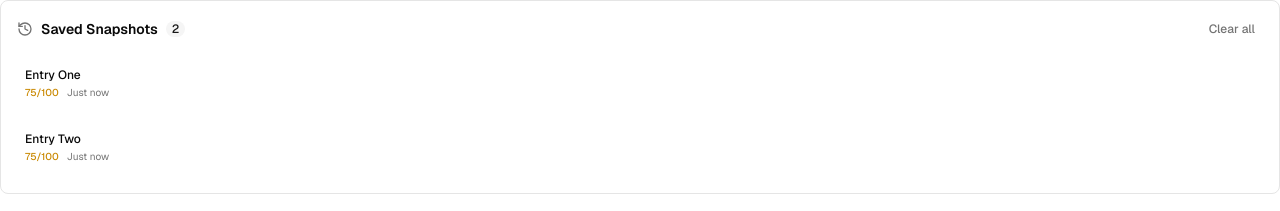
it: HistoryPanel › clears all history when 'Clear all' is clicked
Check: the text "Entry One" is shown, box [25, 66, 81, 82]
Click the button with aria-label "Clear all saved snapshots": (1232, 29) [1201, 17, 1263, 41]
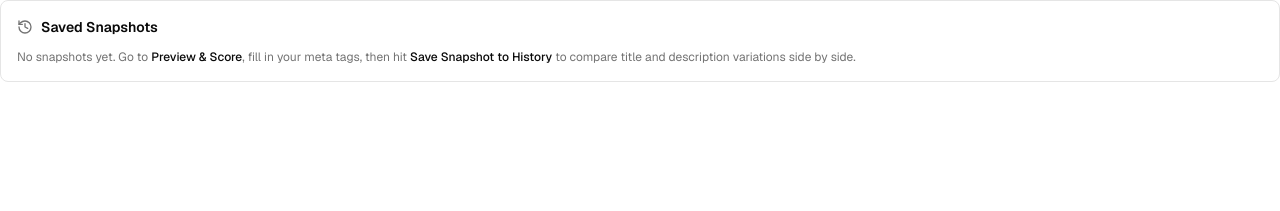
Check: the button "Entry One" is gone
Check: the button "Entry Two" is gone
